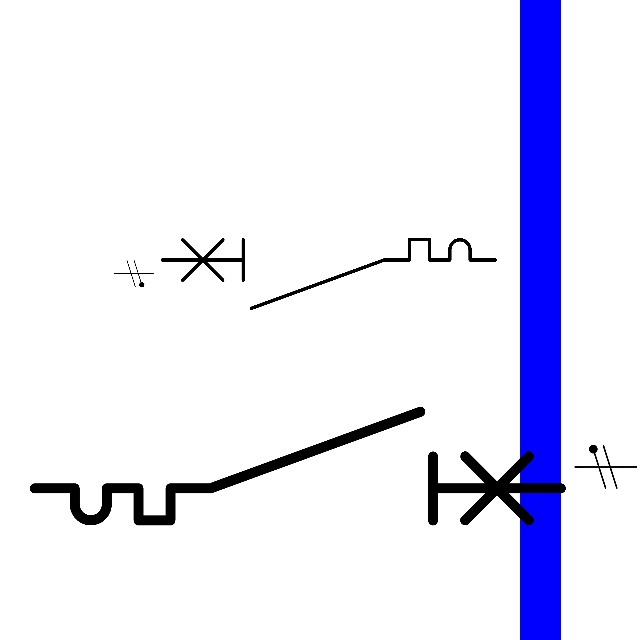interruptor_termomagnetico: (21, 398, 575, 534), (153, 231, 504, 317)
